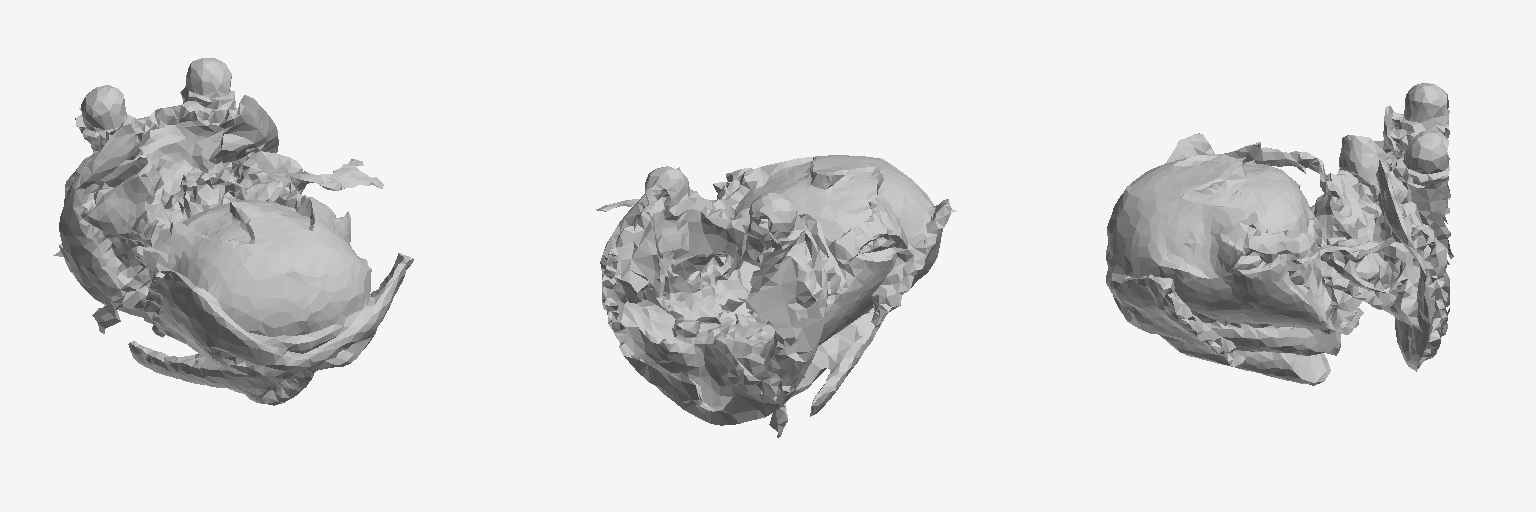
File: reimuV2.obj
The picture shows the model from 3 angles: view 1: azimuth 30°, elevation 25°; view 2: azimuth 150°, elevation 25°; view 3: azimuth 270°, elevation 25°; orthographic projection.
Parts seen in each view (by area): view 1: v2reimu_low; view 2: v2reimu_low; view 3: v2reimu_low.
Boxes of the visible parts, box(x1,y1,x2,y2) form: v2reimu_low: box(53, 58, 413, 405); v2reimu_low: box(596, 155, 956, 437); v2reimu_low: box(1106, 83, 1453, 385).
Bounding box in the file's own units: 26.54 × 23.69 × 27.65.